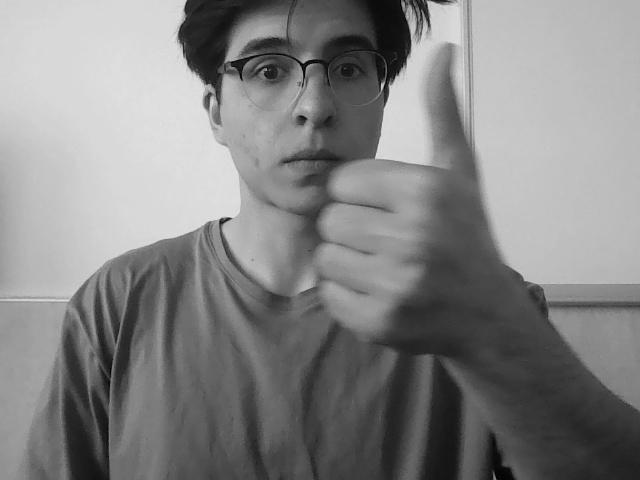good: (313, 46, 492, 367)
